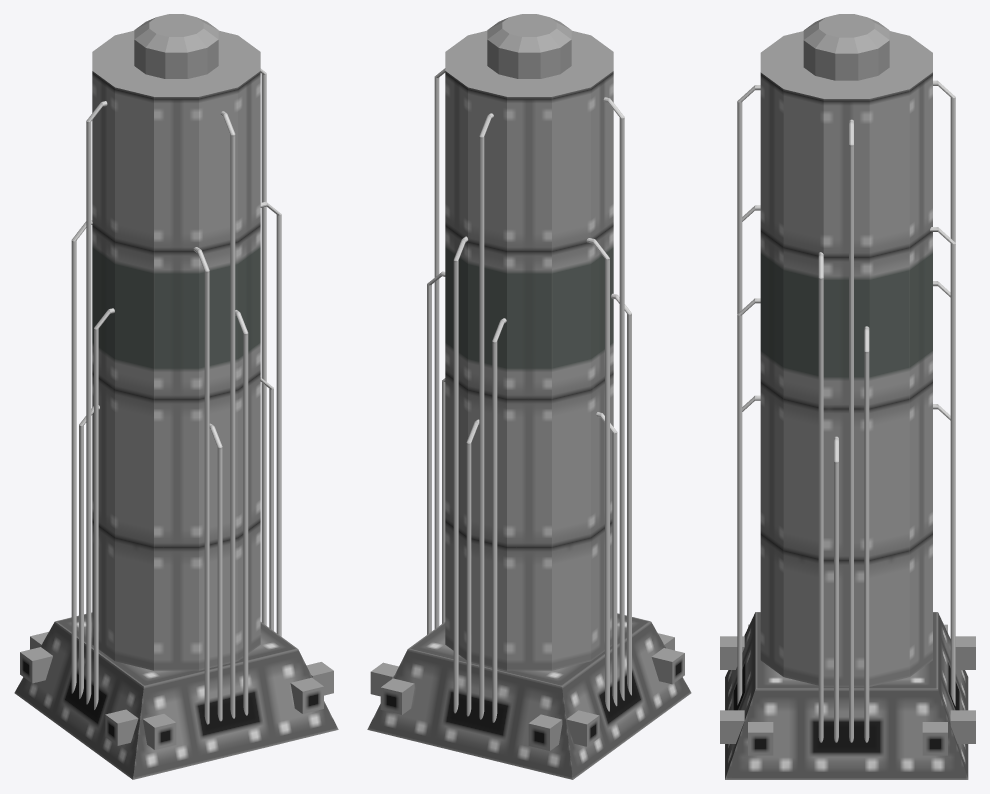
File: oil_refinery.obj
3 views of the same model, side by side, from view 1: azimuth 30°, elevation 25°; view 2: azimuth 150°, elevation 25°; view 3: azimuth 270°, elevation 25° (orthographic). The views are drawn at different scales.
Parts seen in each view (by area): view 1: mesh; view 2: mesh; view 3: mesh.
Boxes of the visible parts, x1=… form: mesh: x1=14, y1=14, x2=338, y2=779; mesh: x1=367, y1=14, x2=691, y2=779; mesh: x1=720, y1=14, x2=975, y2=779.
Bounding box in the file's own units: 3.16 × 9.56 × 3.16.
